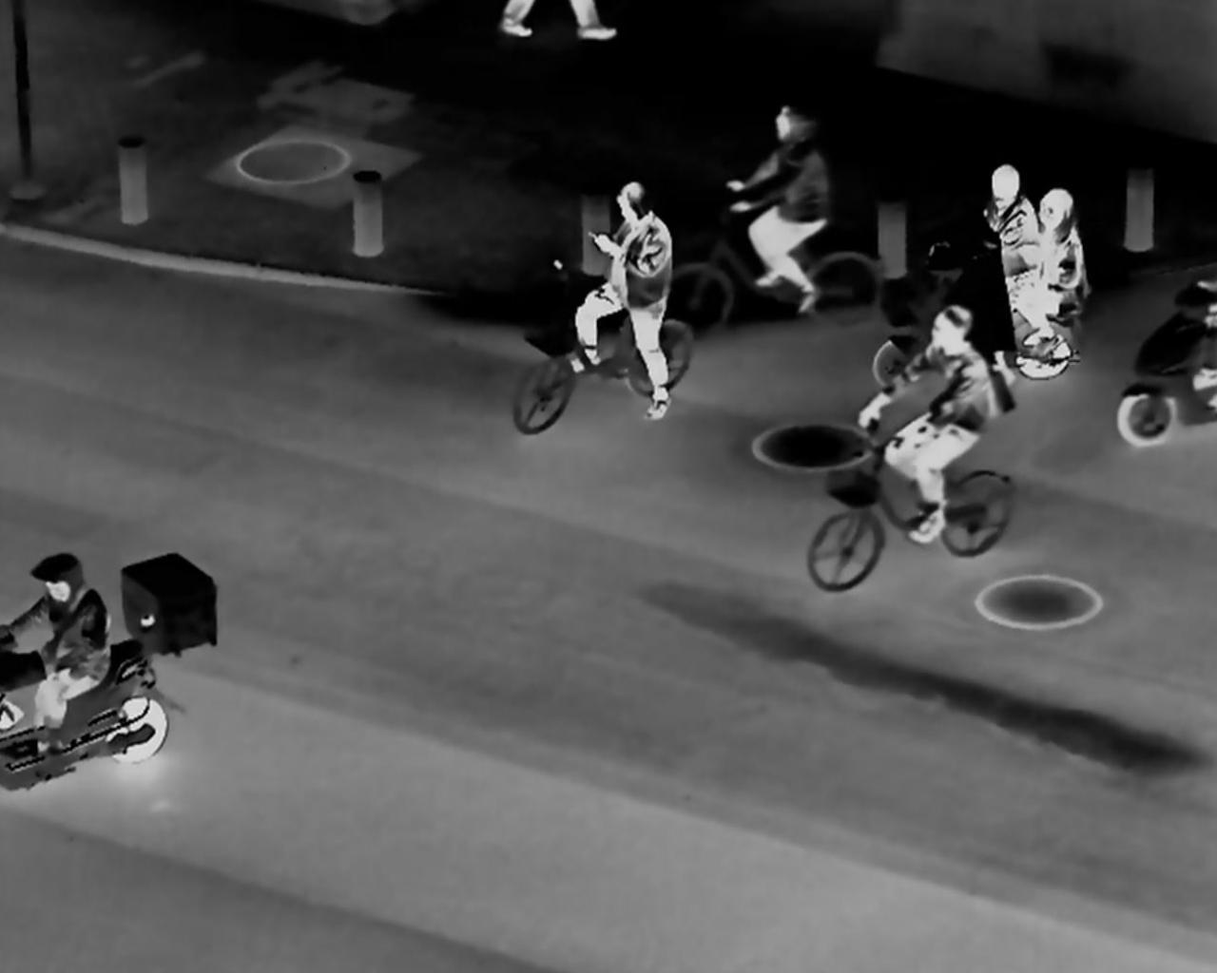person: (855, 292, 991, 544), (569, 173, 679, 421), (733, 94, 834, 302), (5, 550, 118, 733), (1019, 181, 1092, 334), (988, 154, 1049, 320)
